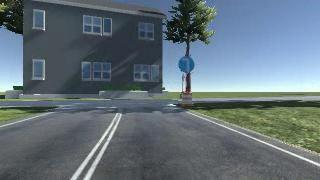turn_left: (178, 56, 195, 73)
